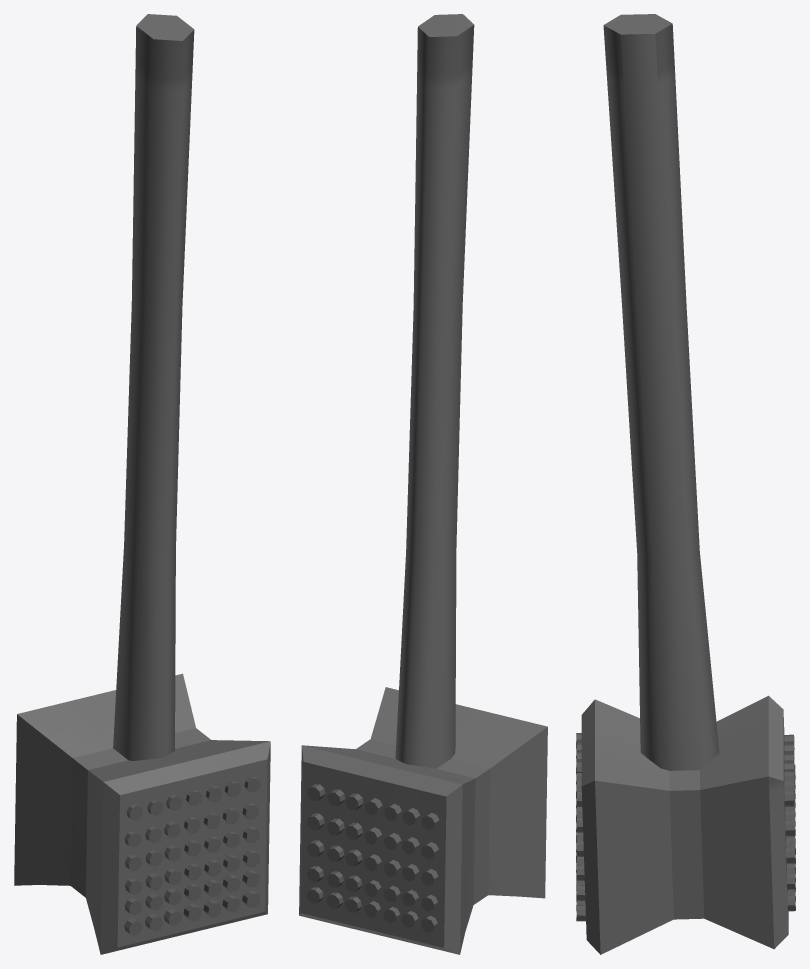
File: H_MeatTenderizer.fbx
3 renders of one model, left to right at view 1: azimuth 30°, elevation 25°; view 2: azimuth 150°, elevation 25°; view 3: azimuth 270°, elevation 25°, orthographic. The views are drawn at different scales.
Visible parts, largest first — view 1: MeatTenderizer.001; view 2: MeatTenderizer.001; view 3: MeatTenderizer.001.
Boxes of the visible parts, x1,y1,x2,y2 form: MeatTenderizer.001: [14, 14, 270, 954]; MeatTenderizer.001: [299, 14, 547, 954]; MeatTenderizer.001: [576, 14, 795, 954].
Bounding box in the file's own units: 10.86 × 55.45 × 12.4.
